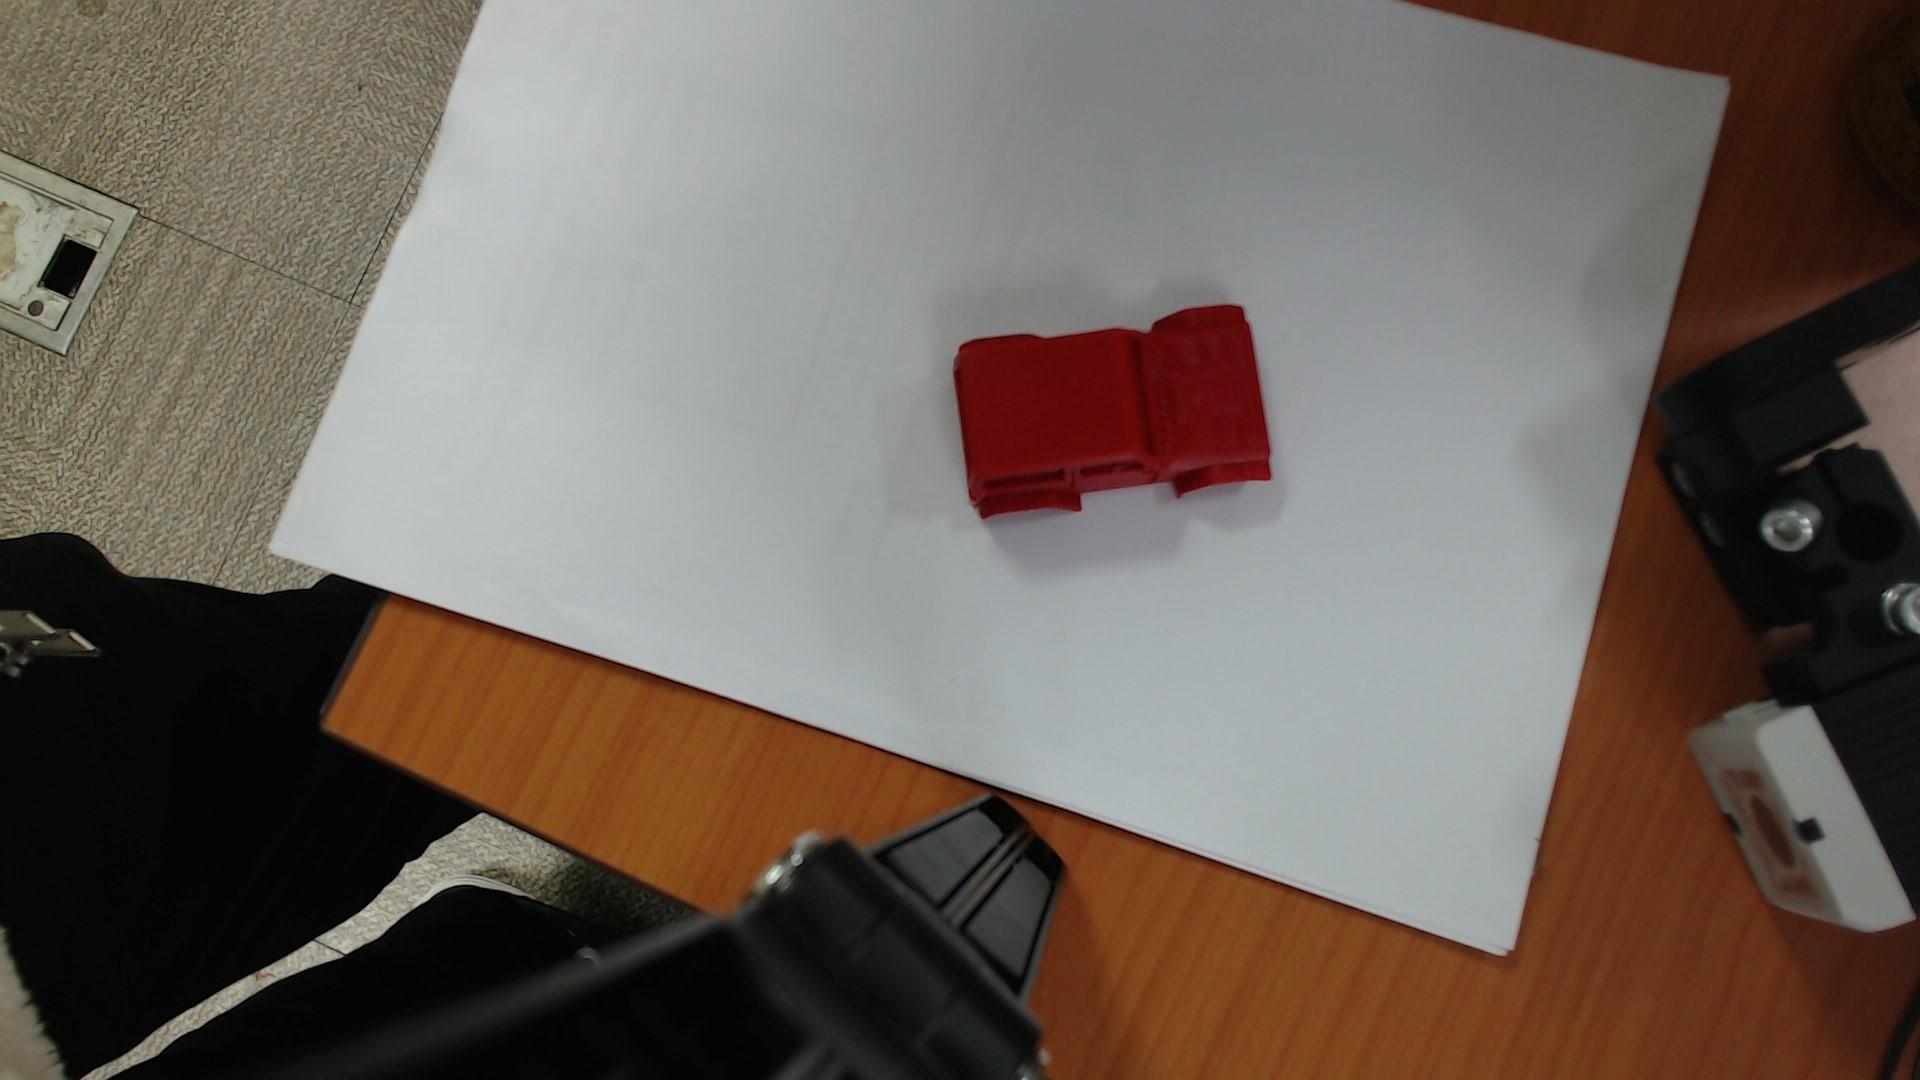Upper_ok: (953, 306, 1273, 518)
